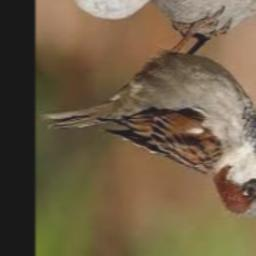Sparrow: (39, 7, 256, 217)
